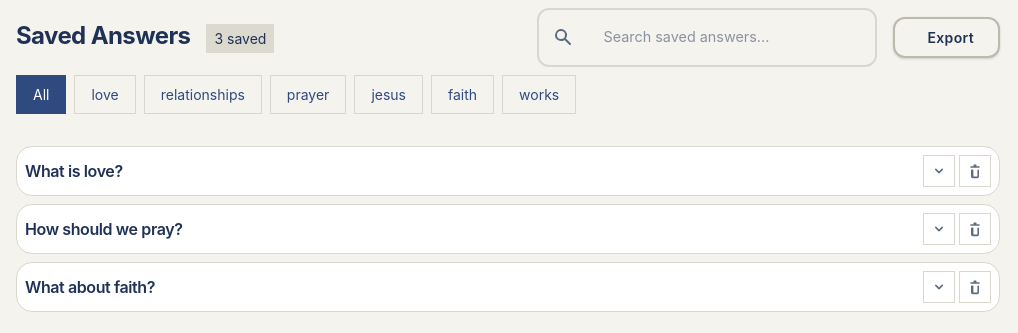
Scenario: SavedAnswers.vue › Search and Filter › combines search query and tag filter
This screenshot has width=1018, height=333.
# First filter by tag 'faith'
Step 1. Click the button with class "tag-button" showing "faith" → point(463, 94), box [431, 75, 494, 114]
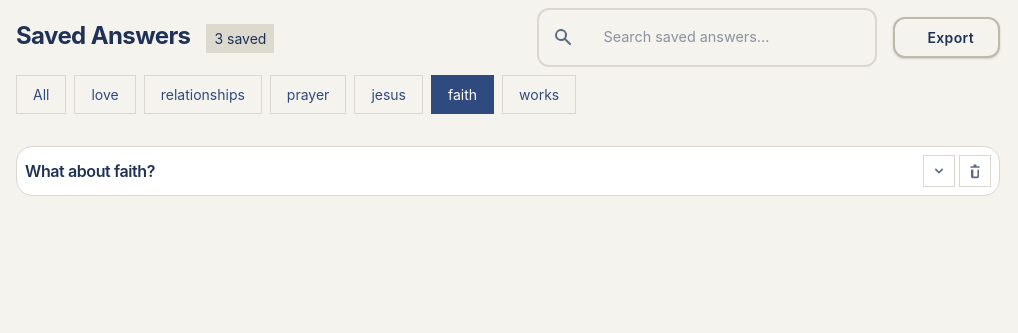
expect the number of elements with class "answer-card" is 1: met, box [16, 146, 1000, 196]
# Now also search for something that does not match the faith-tagged answer
Step 2. Type "love" into the search field with class "search-input" → point(707, 37), box [537, 8, 877, 67]
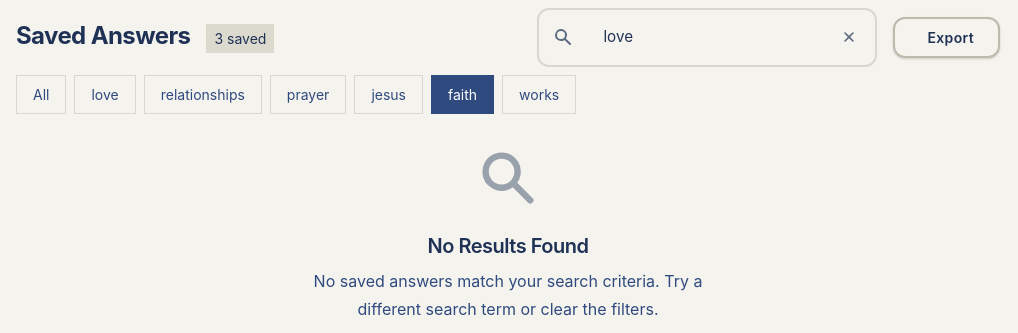
expect no elements with class "answer-card" are shown: met
expect the text "No Results Found" is shown: met, box [428, 234, 588, 258]
